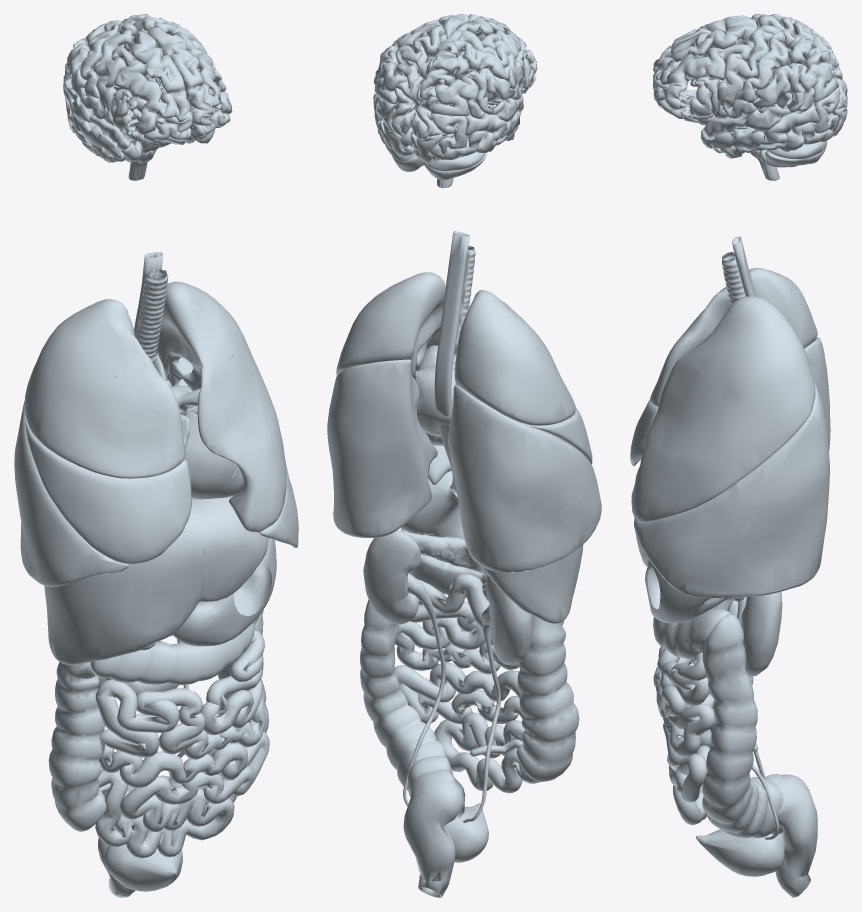
The model's file is organes.glb.
The picture shows the model from 3 angles, left to right: view 1: azimuth 30°, elevation 25°; view 2: azimuth 150°, elevation 25°; view 3: azimuth 270°, elevation 25°; orthographic projection. The views are drawn at different scales.
Visible parts, largest first — view 1: poumons, organes:reste, cerveau, foie, coeur; view 2: poumons, organes:reste, cerveau, reins, foie, coeur; view 3: poumons, organes:reste, cerveau, reins.
Part boxes in pixels (bbox=[...]): poumons: bbox=[14, 281, 298, 586]; organes:reste: bbox=[48, 252, 276, 897]; cerveau: bbox=[63, 14, 232, 180]; foie: bbox=[44, 496, 268, 664]; coeur: bbox=[170, 385, 242, 499]; poumons: bbox=[327, 272, 601, 572]; organes:reste: bbox=[360, 231, 579, 897]; cerveau: bbox=[373, 14, 537, 187]; reins: bbox=[363, 530, 532, 664]; foie: bbox=[428, 445, 583, 623]; coeur: bbox=[415, 345, 456, 445]; poumons: bbox=[630, 268, 830, 597]; organes:reste: bbox=[645, 236, 817, 897]; cerveau: bbox=[653, 14, 847, 180]; reins: bbox=[727, 591, 782, 676].
Size of the model in its own units: 0.261 by 0.8959 by 0.2016.
